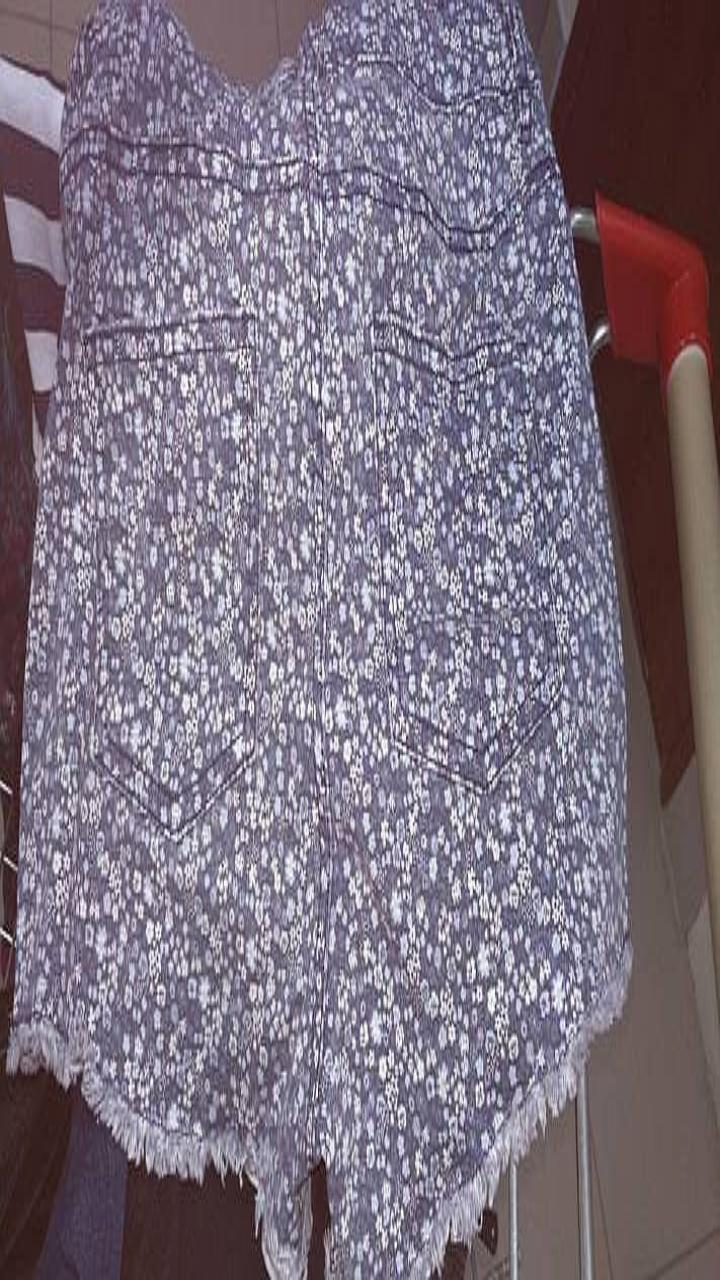Shorts: (8, 0, 629, 1279)
